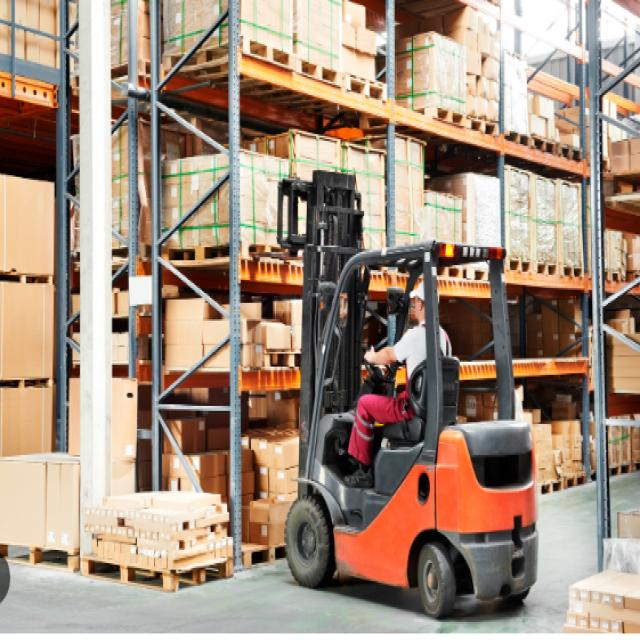shoes: (342, 462, 375, 491)
